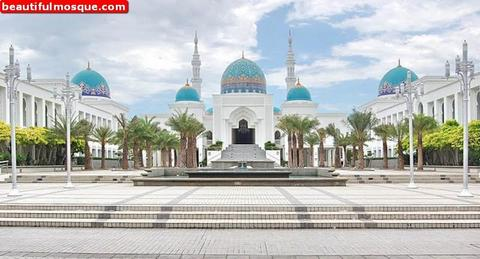Mosque: (1, 24, 480, 178)
